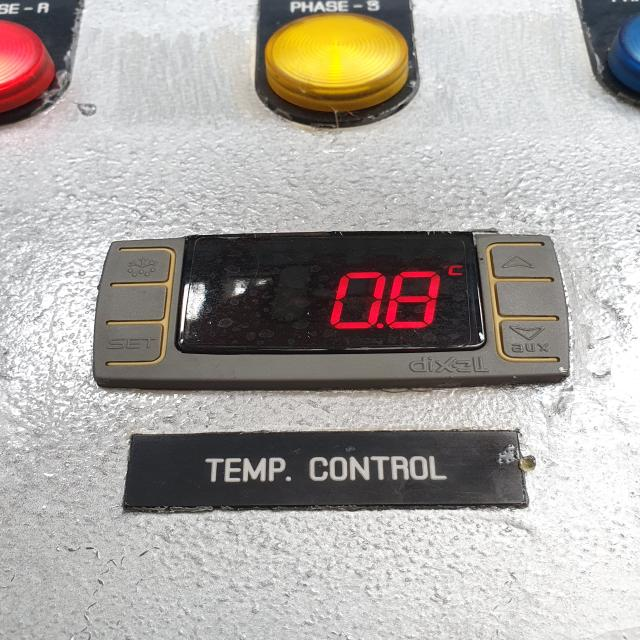display: (178, 230, 488, 354)
frame: (318, 260, 446, 338)
gauge: (91, 231, 572, 390)
